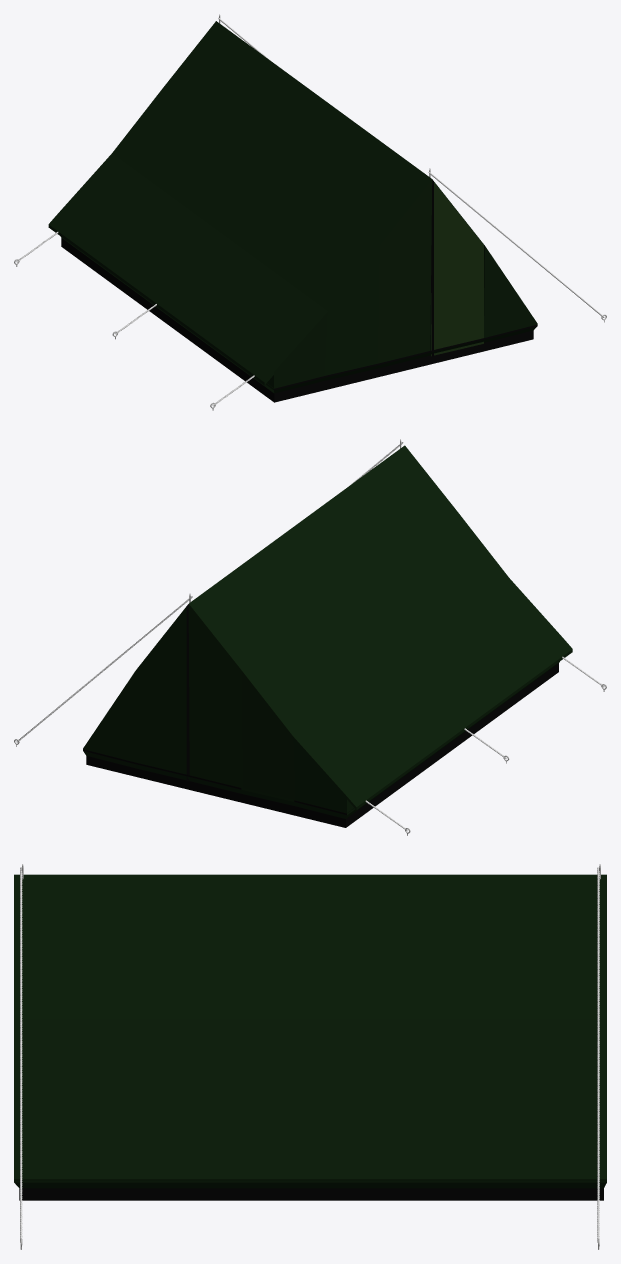
Rendered from dltds_tent.gltf.
The picture shows the model from 3 angles, top to bottom: view 1: azimuth 30°, elevation 25°; view 2: azimuth 150°, elevation 25°; view 3: azimuth 270°, elevation 25°; orthographic projection. The views are drawn at different scales.
Parts seen in each view (by area): view 1: Cube; view 2: Cube; view 3: Cube, Boat_Rope1.001, Boat_Rope1.
Boxes of the visible parts, <box> form: Cube: <box>48,21,537,402</box>; Cube: <box>83,445,572,827</box>; Cube: <box>14,874,606,1200</box>; Boat_Rope1.001: <box>597,867,599,1242</box>; Boat_Rope1: <box>20,867,22,1242</box>.
Size of the model in its own units: 4.7 by 2.26 by 4.51.
